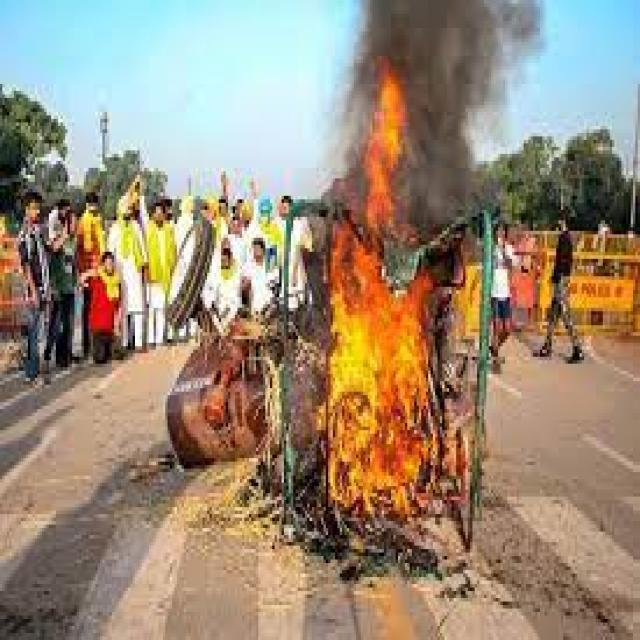Fire: (326, 223, 440, 526), (365, 60, 412, 223)
Smoke: (367, 0, 537, 67), (414, 66, 482, 222)
